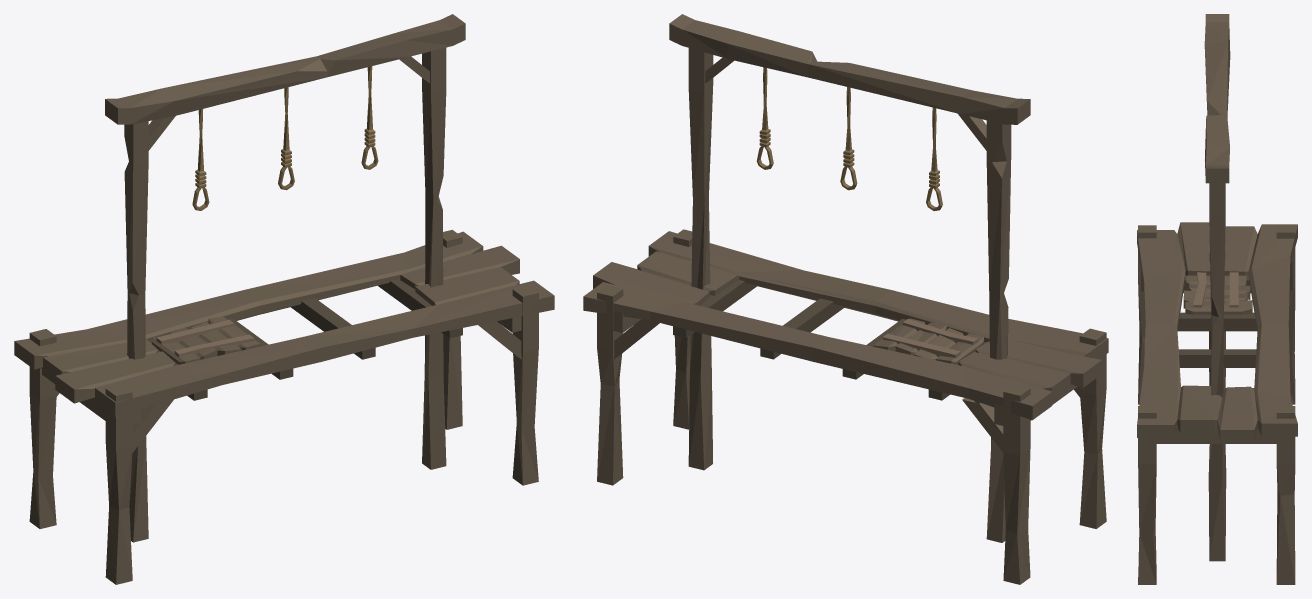
File: SM_Prop_Gallows_Trapdoor_01.glb
The picture shows the model from 3 angles, left to right: view 1: azimuth 30°, elevation 25°; view 2: azimuth 150°, elevation 25°; view 3: azimuth 270°, elevation 25°; orthographic projection. The views are drawn at different scales.
Parts seen in each view (by area): view 1: SM_Prop_Gallows_Trapdoor_01_part00, SM_Prop_Gallows_Trapdoor_01_part01; view 2: SM_Prop_Gallows_Trapdoor_01_part00, SM_Prop_Gallows_Trapdoor_01_part01; view 3: SM_Prop_Gallows_Trapdoor_01_part00, SM_Prop_Gallows_Trapdoor_01_part01.
Boxes of the visible parts, left/top/right/bottom form: SM_Prop_Gallows_Trapdoor_01_part00: left=14, top=14, right=554, bottom=584; SM_Prop_Gallows_Trapdoor_01_part01: left=152, top=317, right=260, bottom=364; SM_Prop_Gallows_Trapdoor_01_part00: left=583, top=14, right=1108, bottom=584; SM_Prop_Gallows_Trapdoor_01_part01: left=873, top=318, right=983, bottom=364; SM_Prop_Gallows_Trapdoor_01_part00: left=1137, top=14, right=1297, bottom=584; SM_Prop_Gallows_Trapdoor_01_part01: left=1183, top=272, right=1252, bottom=314.
Bounding box in the file's own units: 6.04 × 5.43 × 1.98.
Materials: 1 (1 with a texture image).
